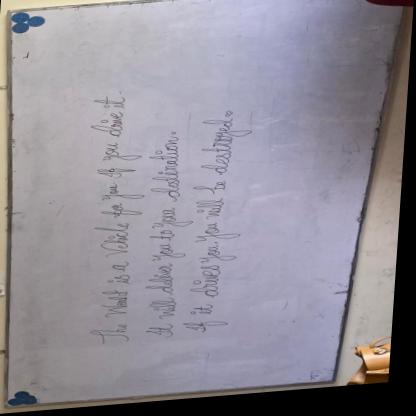Handwritten text: (73, 95, 153, 352), (181, 120, 259, 351), (138, 136, 197, 345)
Whiteboard: (9, 0, 405, 410)
